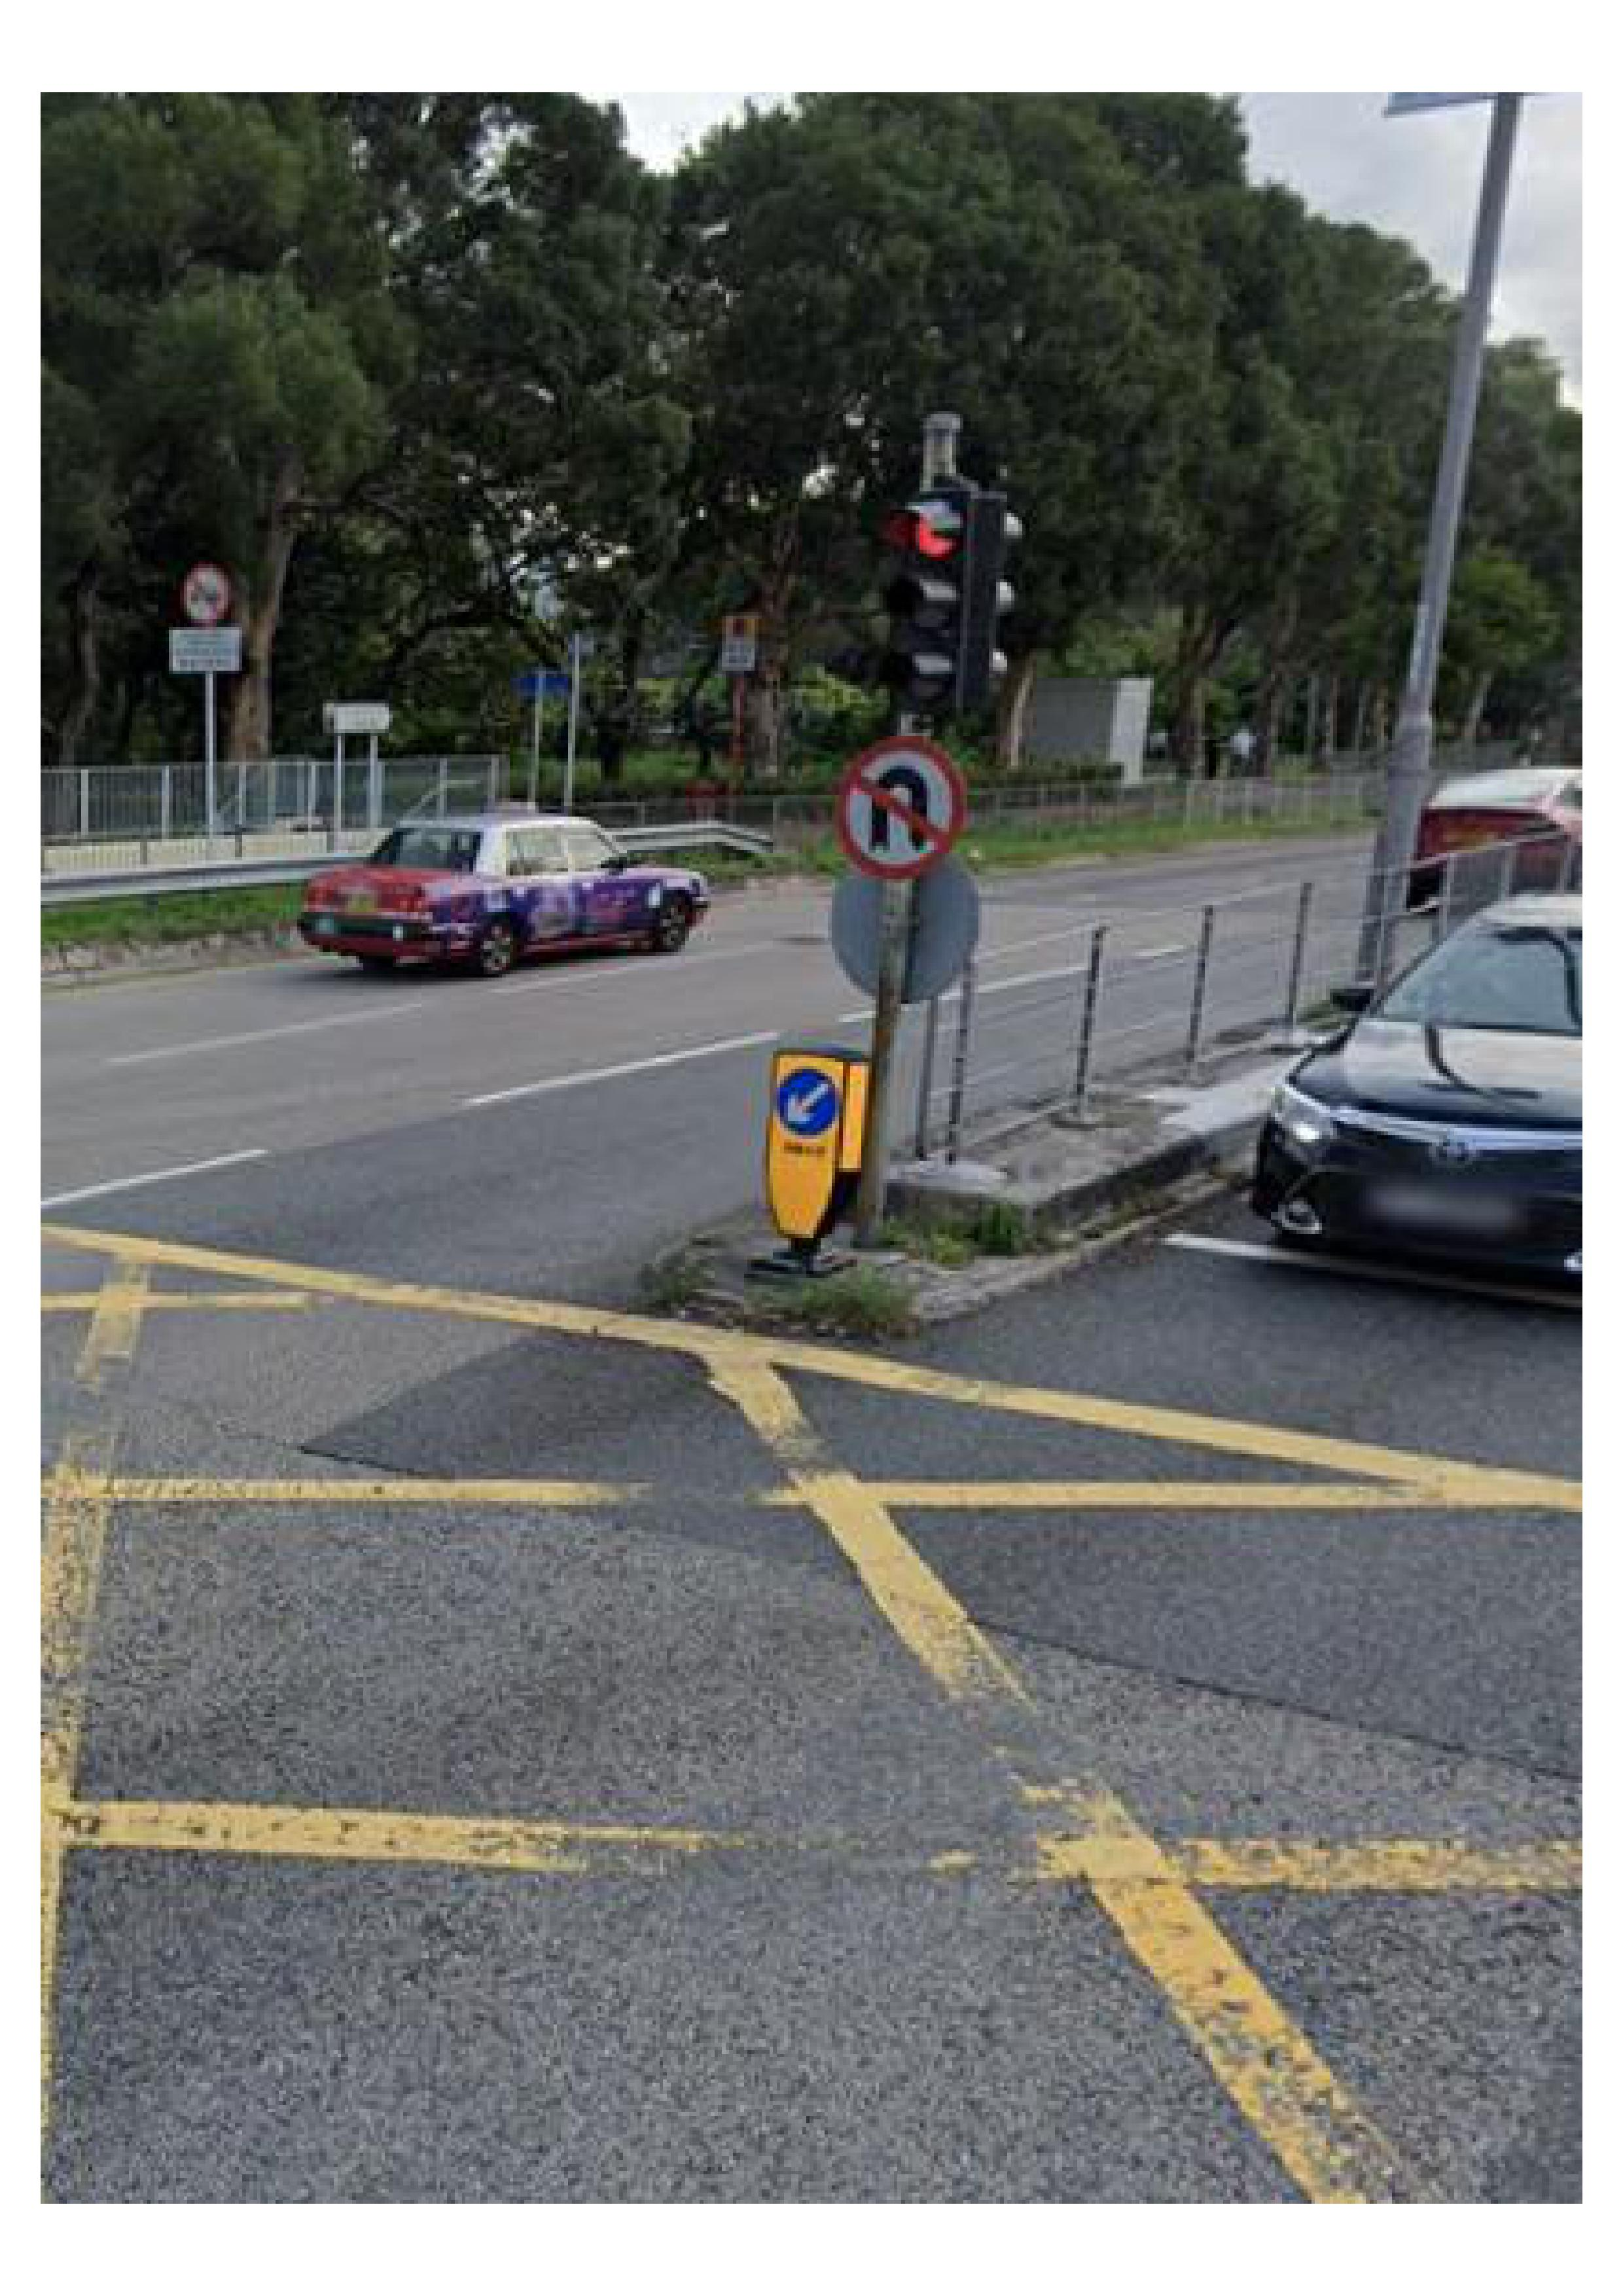No Uturn: (822, 739, 963, 878)
